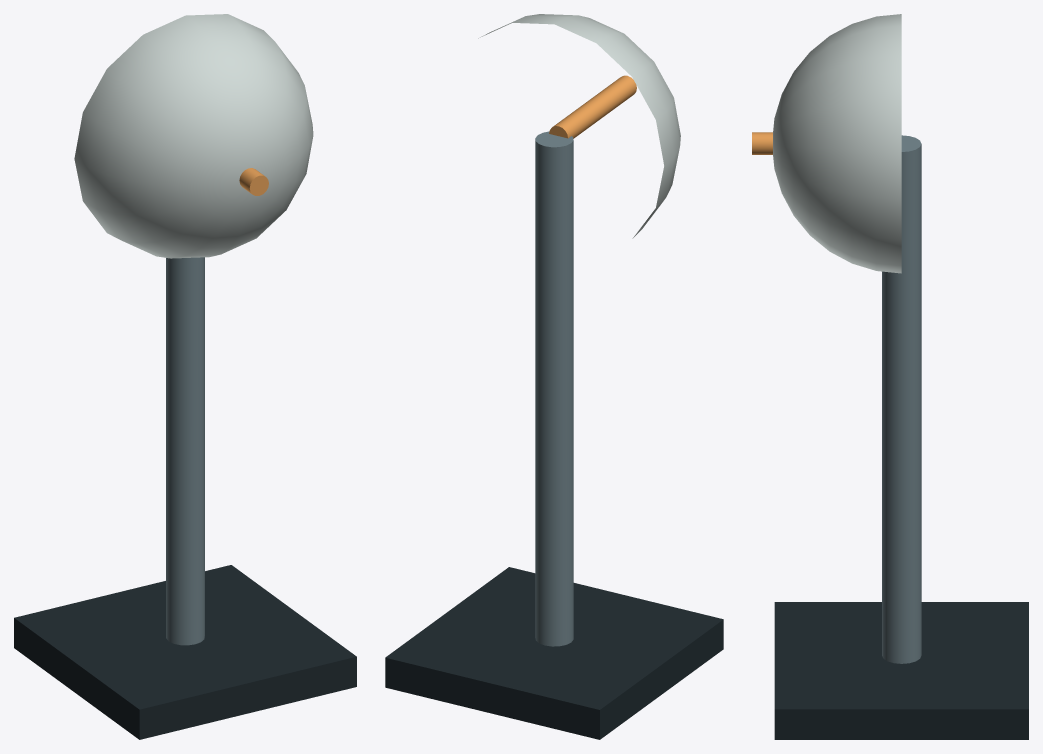
The model's file is lunar-relay-mast.glb.
3 renders of one model, left to right at view 1: azimuth 30°, elevation 25°; view 2: azimuth 150°, elevation 25°; view 3: azimuth 270°, elevation 25°, orthographic. The views are drawn at different scales.
Parts seen in each view (by area): view 1: dish, base, mast, feed; view 2: base, mast, dish, feed; view 3: base, dish, mast, feed.
Part boxes in pixels (x1=…): dish: x1=74, y1=14, x2=313, y2=258; base: x1=14, y1=565, x2=356, y2=739; mast: x1=166, y1=257, x2=204, y2=645; feed: x1=239, y1=168, x2=268, y2=195; base: x1=385, y1=567, x2=723, y2=739; mast: x1=535, y1=131, x2=573, y2=646; dish: x1=478, y1=14, x2=680, y2=238; feed: x1=549, y1=75, x2=636, y2=138; base: x1=774, y1=602, x2=1028, y2=739; dish: x1=773, y1=14, x2=901, y2=273; mast: x1=882, y1=135, x2=921, y2=663; feed: x1=752, y1=132, x2=772, y2=154.
Bounding box in the file's own units: 0.92 × 2.58 × 0.98.
